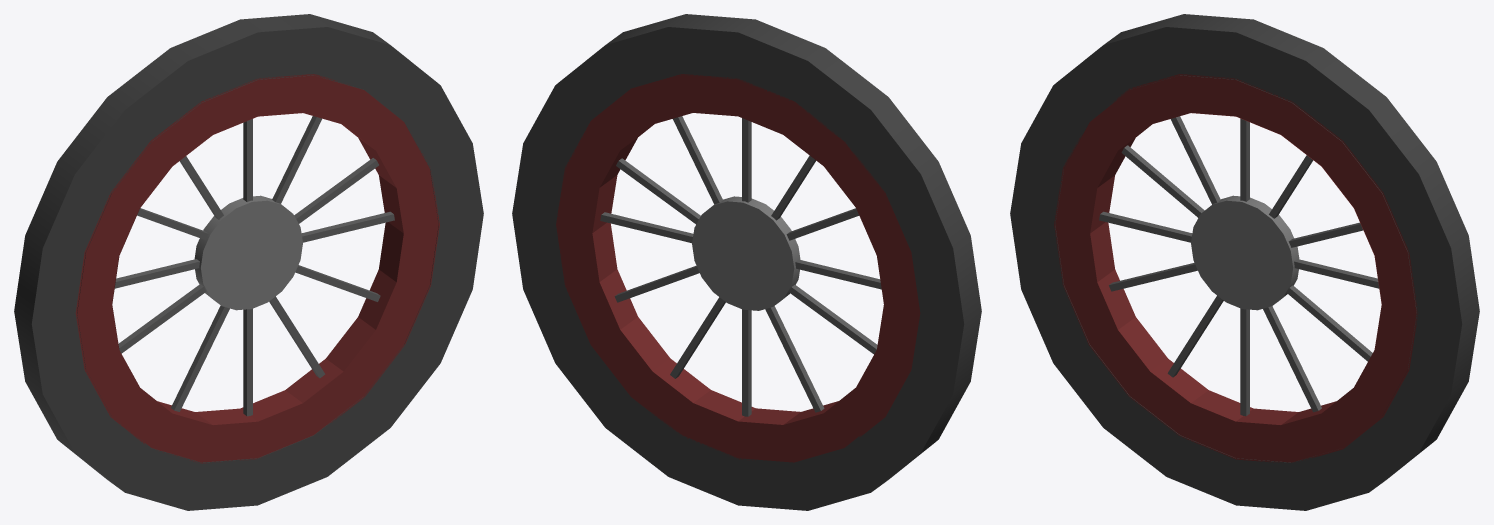
Rendered from Car wheel.fbx.
3 renders of one model, left to right at view 1: azimuth 30°, elevation 25°; view 2: azimuth 150°, elevation 25°; view 3: azimuth 330°, elevation 25°, orthographic.
Visible parts, largest first — view 1: pasted__pCube8; view 2: pasted__pCube8; view 3: pasted__pCube8.
Boxes of the visible parts, x1=… form: pasted__pCube8: x1=14, y1=14, x2=483, y2=510; pasted__pCube8: x1=512, y1=14, x2=981, y2=510; pasted__pCube8: x1=1010, y1=14, x2=1479, y2=510.
Size of the model in its own units: 2 by 2 by 0.1372.
